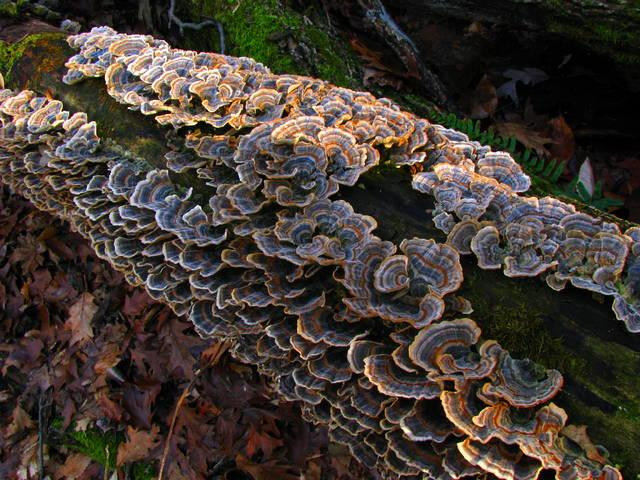Non-edible Mushroom: (1, 23, 637, 478)
